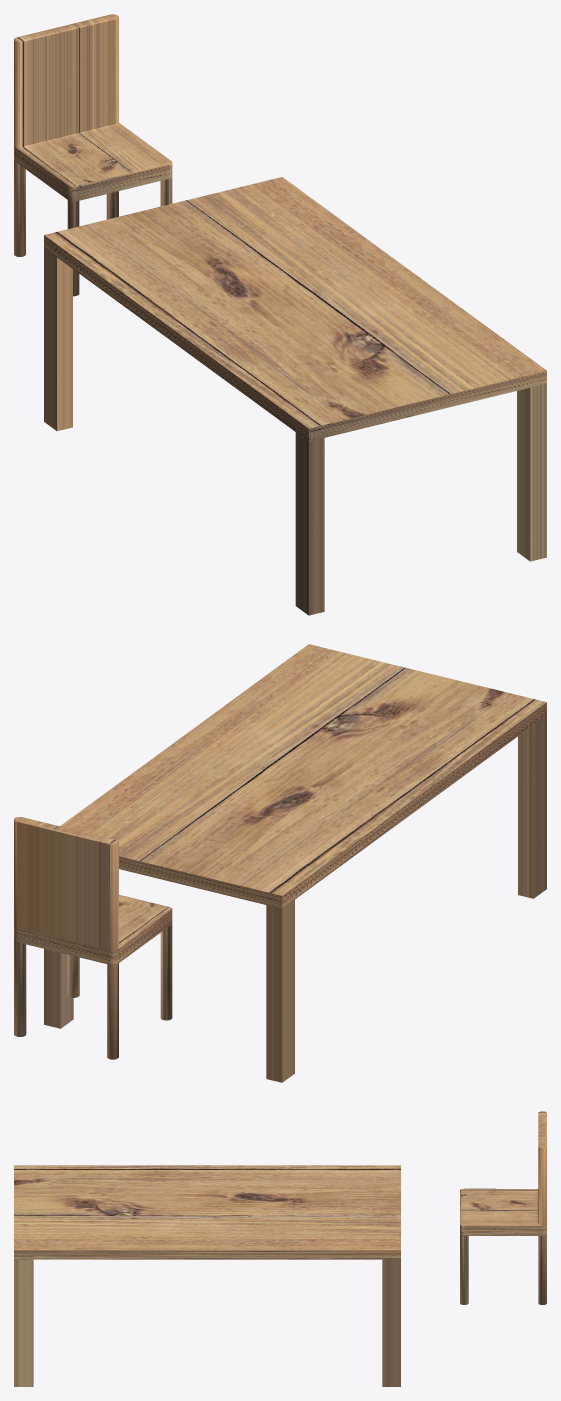
Rendered from Prayer Mat.fbx.
The picture shows the model from 3 angles, top to bottom: view 1: azimuth 30°, elevation 25°; view 2: azimuth 150°, elevation 25°; view 3: azimuth 270°, elevation 25°; orthographic projection. The views are drawn at different scales.
Parts seen in each view (by area): view 1: Cube.001, Cube; view 2: Cube.001, Cube; view 3: Cube.001, Cube.
Boxes of the visible parts, x1,y1,x2,y2 form: Cube.001: (44, 177, 546, 615); Cube: (14, 14, 172, 296); Cube.001: (44, 644, 546, 1082); Cube: (14, 817, 172, 1059); Cube.001: (14, 1165, 400, 1386); Cube: (460, 1111, 546, 1304).
Size of the model in its own units: 462 by 545 by 1224.
Materials: 2 (2 with a texture image).
